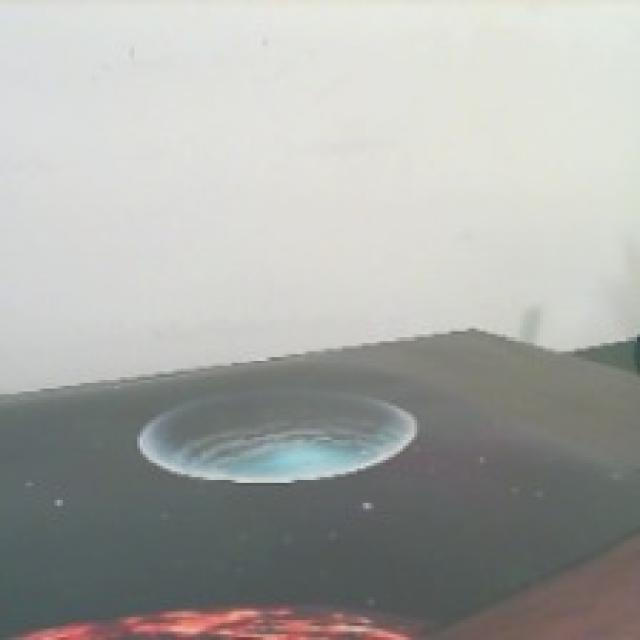Earth: (140, 390, 418, 488)
Sun: (0, 603, 426, 640)
